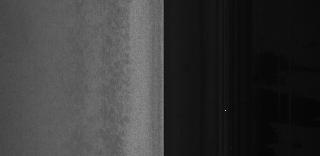silk spot: (104, 29, 140, 136)
